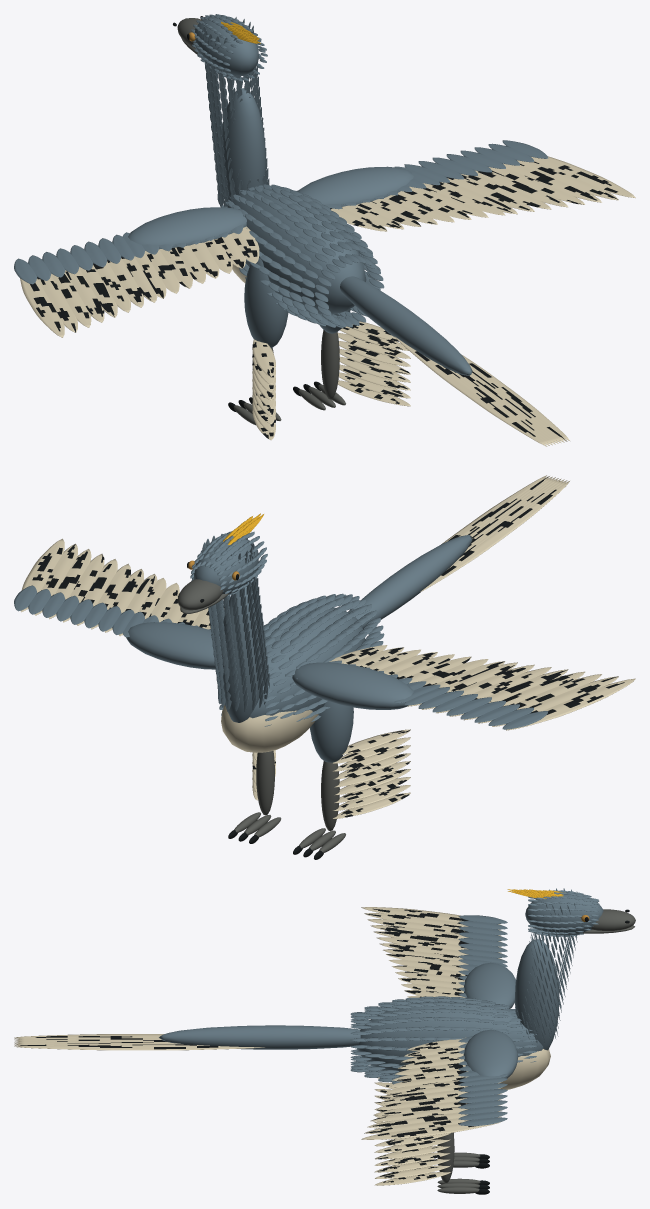
File: anchiornis.glb
The picture shows the model from 3 angles, top to bottom: view 1: azimuth 30°, elevation 25°; view 2: azimuth 150°, elevation 25°; view 3: azimuth 270°, elevation 25°; orthographic projection. The views are drawn at different scales.
Visible parts, largest first — view 1: BodyPlumage, WingHand1Plumage, WingHand0Plumage, WingArm0Plumage, WingArm1Plumage, NeckPlumage, Shank1Plumage, TailPlumage, HeadPlumage, Leg0Plumage, Shank0Plumage, TailFeather0Plumage (+2 smaller); view 2: BodyPlumage, WingHand0Plumage, WingHand1Plumage, WingArm0Plumage, NeckPlumage, Shank0Plumage, WingArm1Plumage, HeadPlumage, TailPlumage, Leg0Plumage, TailFeather0Plumage, Shank1Plumage (+3 smaller); view 3: BodyPlumage, WingHand1Plumage, WingHand0Plumage, WingArm1Plumage, NeckPlumage, WingArm0Plumage, TailPlumage, HeadPlumage, Shank1Plumage, TailFeather8Plumage, Foot1Plumage, Foot0Plumage (+1 smaller).
Part boxes in pixels (x1=…): BodyPlumage: x1=221, y1=184, x2=384, y2=327; WingHand1Plumage: x1=404, y1=140, x2=635, y2=214; WingHand0Plumage: x1=14, y1=234, x2=157, y2=337; WingArm0Plumage: x1=122, y1=207, x2=259, y2=298; WingArm1Plumage: x1=297, y1=166, x2=505, y2=231; NeckPlumage: x1=201, y1=17, x2=269, y2=206; Shank1Plumage: x1=321, y1=321, x2=410, y2=406; TailPlumage: x1=340, y1=276, x2=472, y2=375; HeadPlumage: x1=173, y1=14, x2=267, y2=81; Leg0Plumage: x1=244, y1=257, x2=288, y2=348; Shank0Plumage: x1=252, y1=339, x2=275, y2=440; TailFeather0Plumage: x1=394, y1=336, x2=547, y2=446; BodyPlumage: x1=218, y1=593, x2=384, y2=752; WingHand0Plumage: x1=404, y1=662, x2=635, y2=730; WingHand1Plumage: x1=14, y1=538, x2=157, y2=635; WingArm0Plumage: x1=292, y1=645, x2=505, y2=709; NeckPlumage: x1=202, y1=534, x2=269, y2=722; Shank0Plumage: x1=321, y1=729, x2=410, y2=831; WingArm1Plumage: x1=122, y1=578, x2=224, y2=669; HeadPlumage: x1=173, y1=513, x2=267, y2=610; TailPlumage: x1=348, y1=535, x2=472, y2=628; Leg0Plumage: x1=309, y1=701, x2=353, y2=762; TailFeather0Plumage: x1=420, y1=481, x2=569, y2=591; Shank1Plumage: x1=252, y1=750, x2=275, y2=815; BodyPlumage: x1=350, y1=996, x2=550, y2=1089; WingHand1Plumage: x1=361, y1=1077, x2=507, y2=1139; WingHand0Plumage: x1=361, y1=907, x2=507, y2=963; WingArm1Plumage: x1=386, y1=1029, x2=518, y2=1093; NeckPlumage: x1=515, y1=888, x2=579, y2=1050; WingArm0Plumage: x1=386, y1=953, x2=515, y2=1008; TailPlumage: x1=159, y1=1025, x2=360, y2=1049; HeadPlumage: x1=507, y1=889, x2=635, y2=936; Shank1Plumage: x1=374, y1=1132, x2=454, y2=1185; TailFeather8Plumage: x1=14, y1=1045, x2=265, y2=1050; Foot1Plumage: x1=437, y1=1178, x2=489, y2=1194; Foot0Plumage: x1=438, y1=1152, x2=489, y2=1168.
Bounding box in the file's own units: 1.6 × 0.9201 × 1.81.
